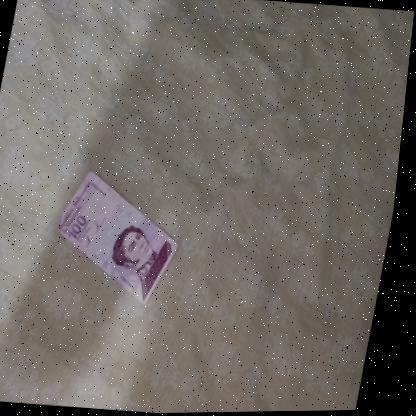one_hundred-front-vef: (44, 164, 198, 310)
